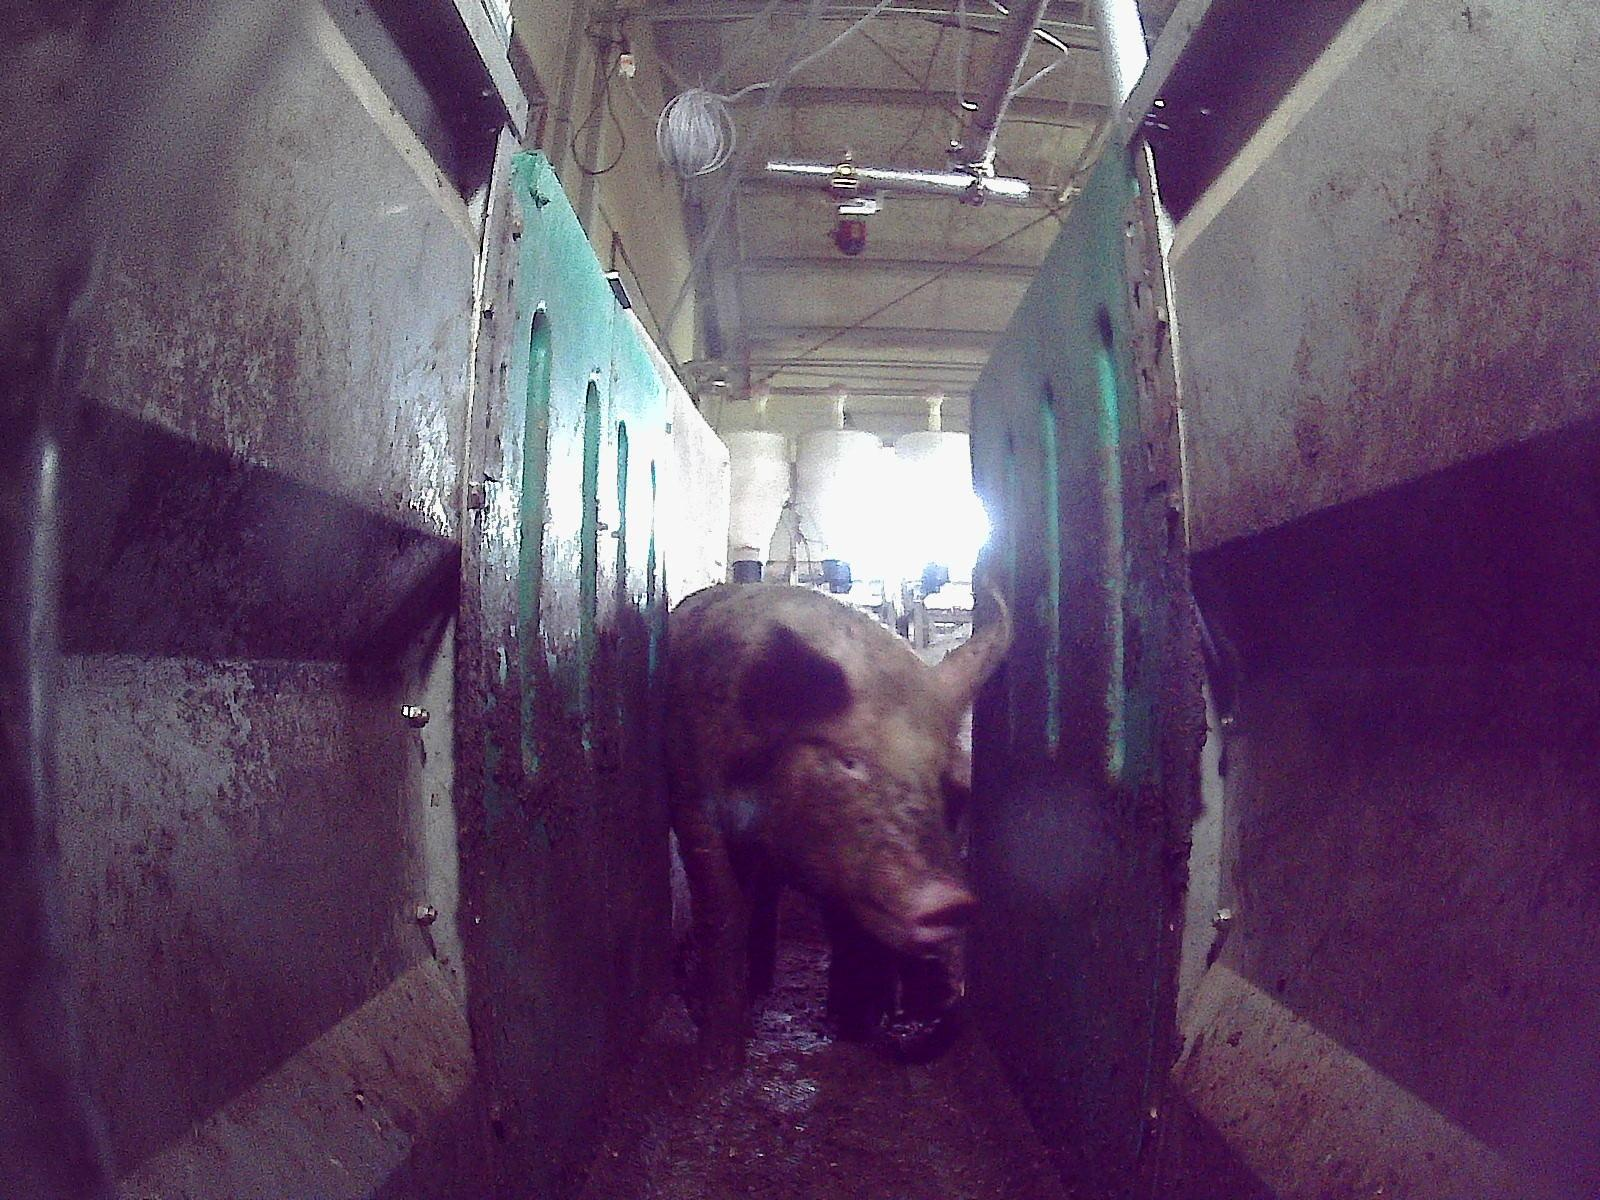Face: (773, 677, 976, 953)
